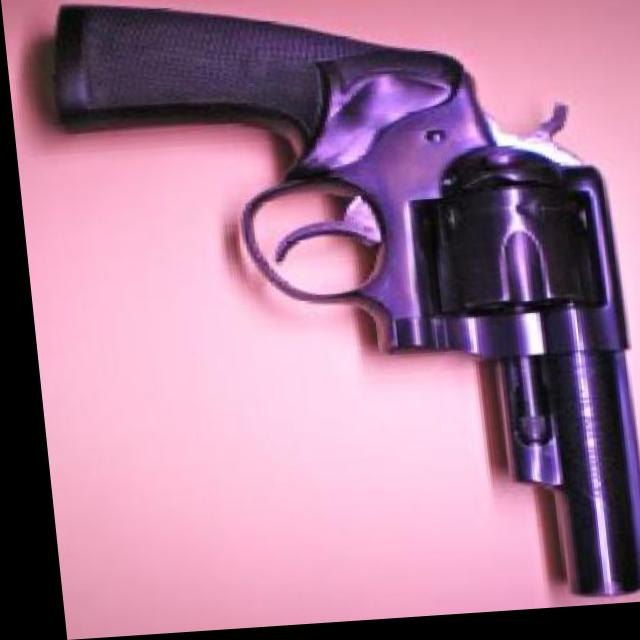handgun: (50, 0, 640, 628)
